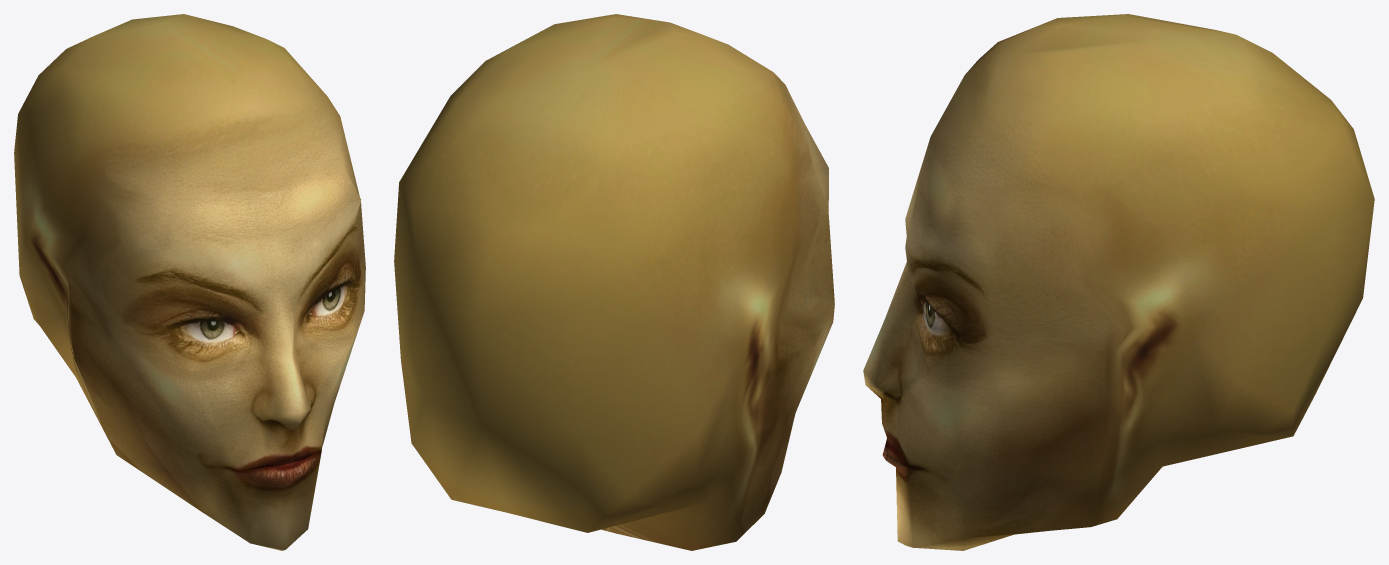
File: b_n_high elf_f_head_03.glb
The picture shows the model from 3 angles, left to right: view 1: azimuth 30°, elevation 25°; view 2: azimuth 150°, elevation 25°; view 3: azimuth 270°, elevation 25°; orthographic projection. The views are drawn at different scales.
Visible parts, largest first — view 1: Tri B_N_High Elf_F_Head_03; view 2: Tri B_N_High Elf_F_Head_03; view 3: Tri B_N_High Elf_F_Head_03.
Part boxes in pixels (x1,y1,x2,y2): Tri B_N_High Elf_F_Head_03: (14, 14, 365, 550); Tri B_N_High Elf_F_Head_03: (394, 14, 834, 550); Tri B_N_High Elf_F_Head_03: (863, 14, 1374, 550).
Size of the model in its own units: 0.0969 by 0.1523 by 0.1389.
Materials: 1 (1 with a texture image).
